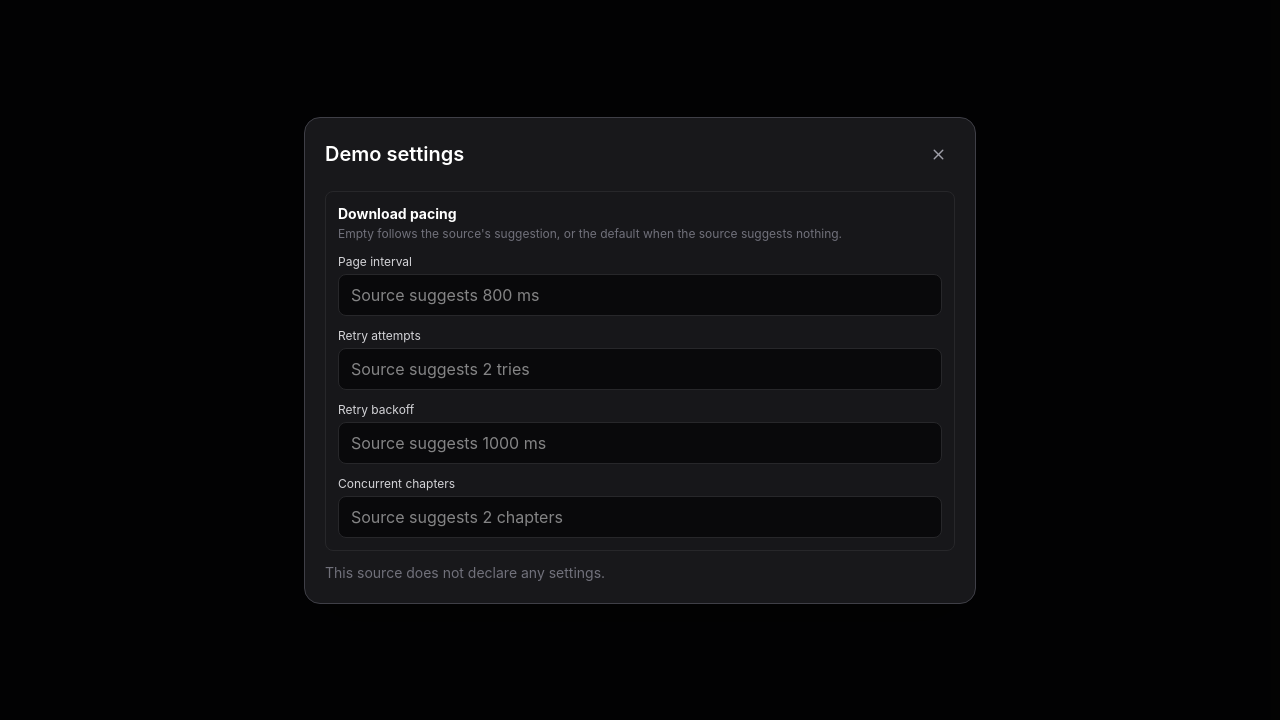
SourceSettingsDialog › warns when the concurrency override exceeds what the source tolerates
This screenshot has width=1280, height=720.
Type "4" into the number field labelled "Concurrent chapters" at (640, 516), box [338,496,942,538]
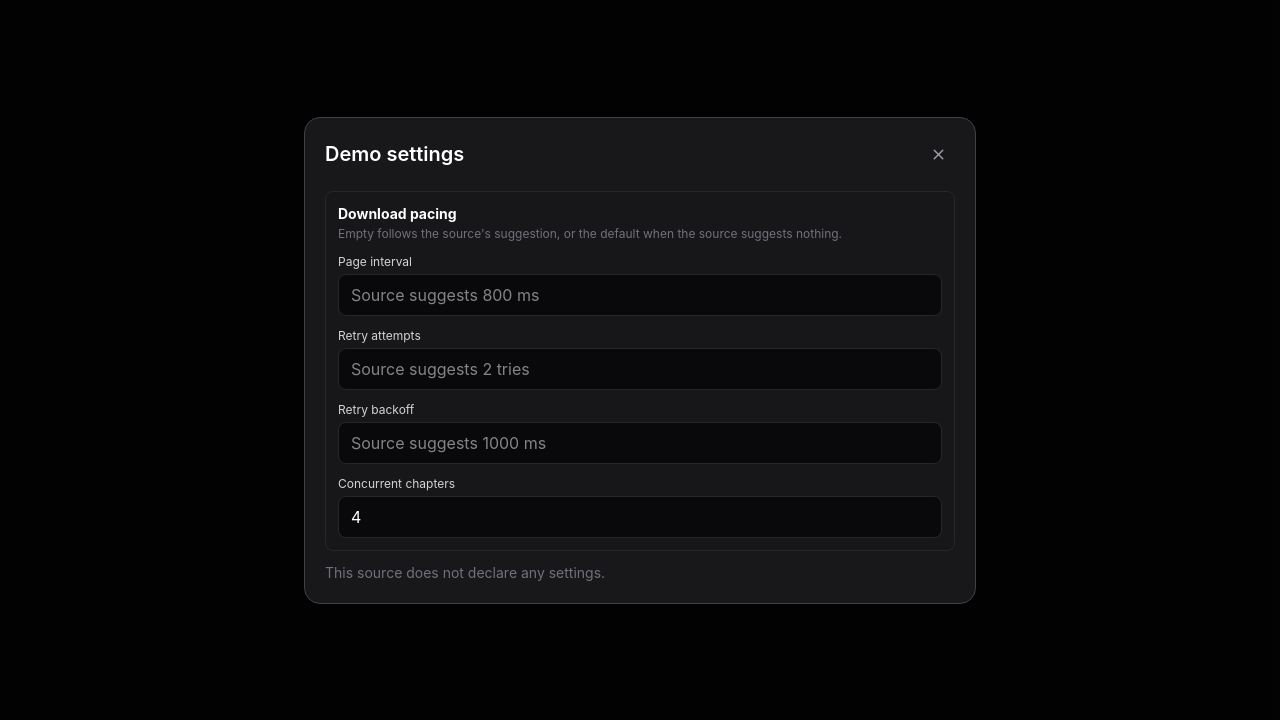
Leave the number field labelled "Concurrent chapters", box [338,496,942,538]
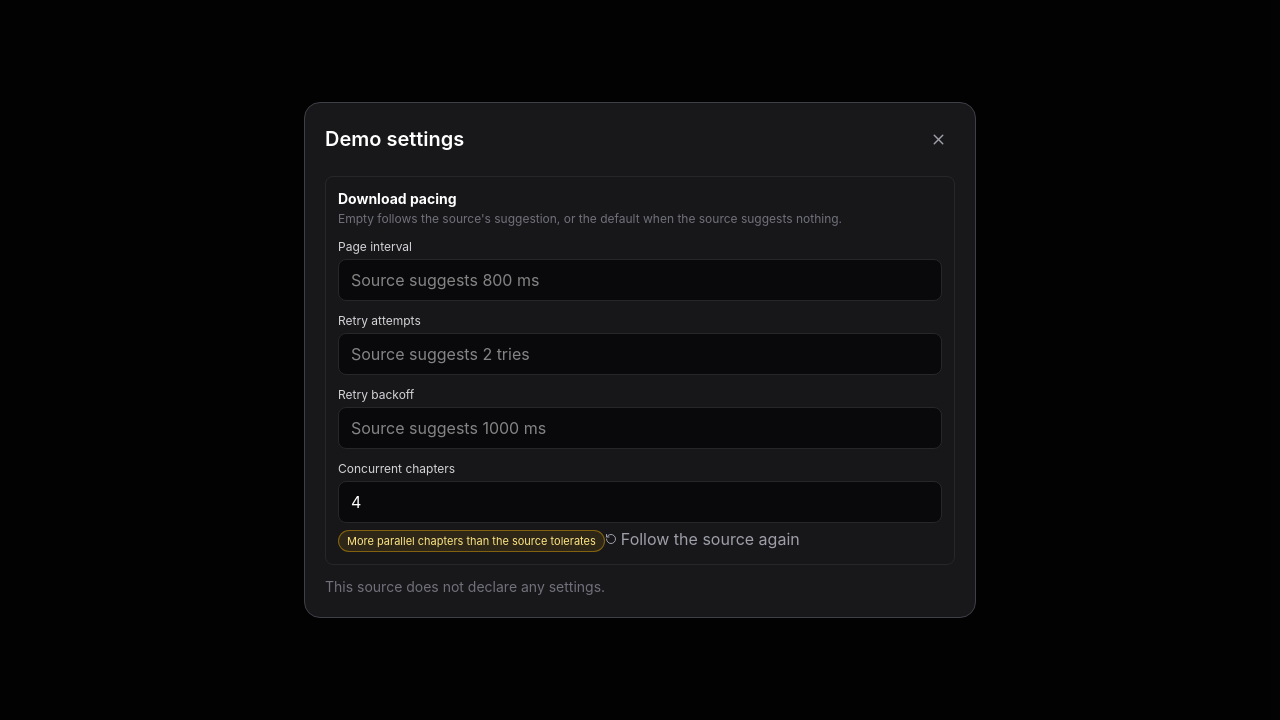
Expected: the text "More parallel chapters than the source tolerates" is shown, [338,530,605,552]
